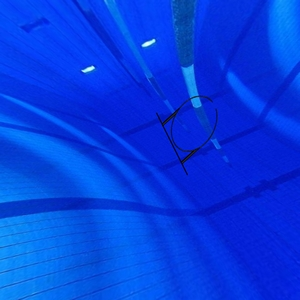circle: (155, 94, 225, 178)
